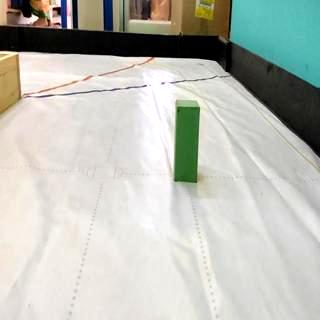greenbox: (174, 98, 200, 182)
